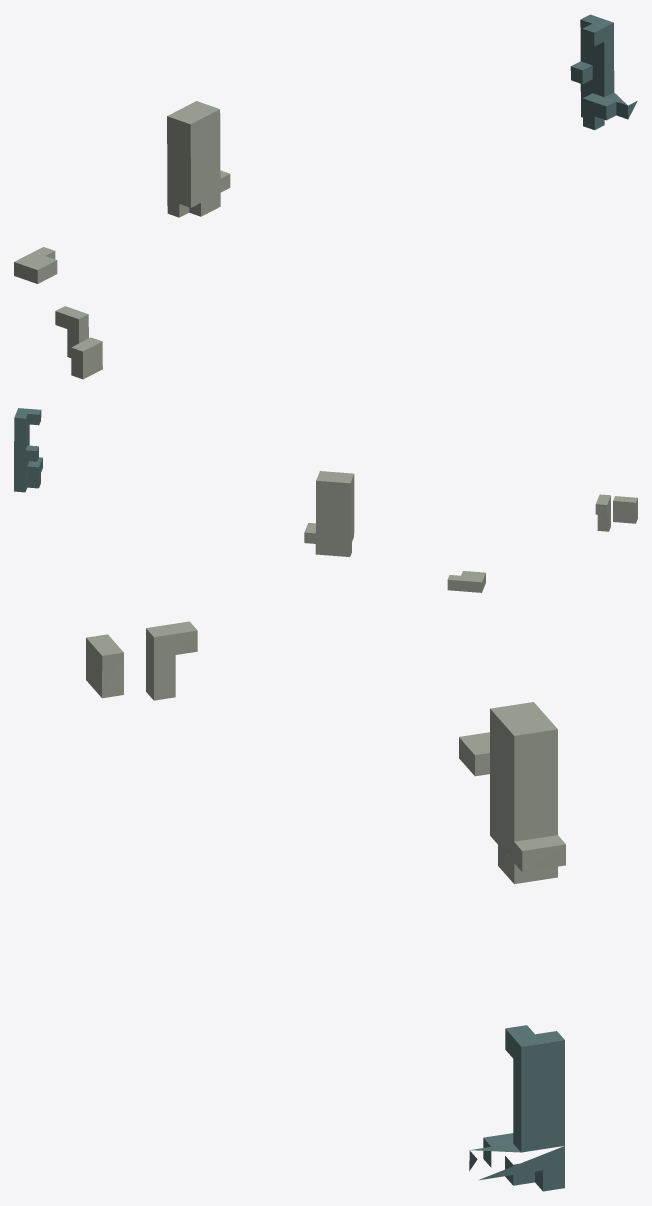
3 views of the same model, one above another, from view 1: azimuth 30°, elevation 25°; view 2: azimuth 150°, elevation 25°; view 3: azimuth 270°, elevation 25° (orthographic). The views are drawn at different scales.
Visible parts, largest first — view 1: measured-industrial; view 2: measured-industrial; view 3: measured-industrial.
Boxes of the visible parts, bbox=[...] form: measured-industrial: bbox=[14, 14, 637, 379]; measured-industrial: bbox=[14, 408, 637, 592]; measured-industrial: bbox=[86, 621, 565, 1191].
Bounding box in the file's own units: 77.57 × 12.12 × 30.91.
